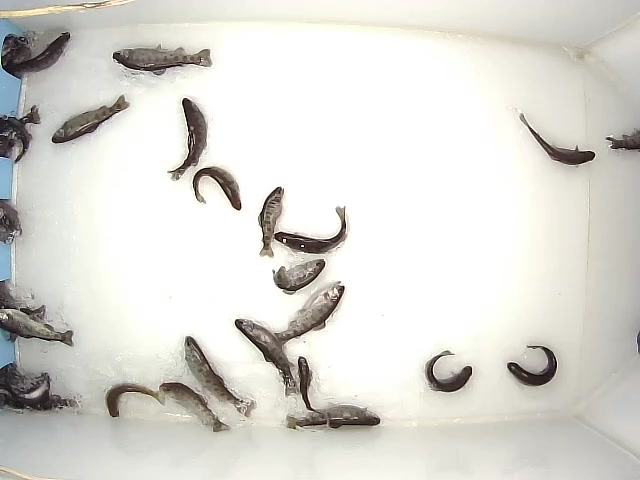fish: (184, 335, 258, 420), (234, 318, 301, 399), (274, 280, 345, 346), (518, 112, 596, 169), (51, 93, 132, 144), (158, 382, 232, 433), (274, 205, 347, 255), (167, 96, 207, 183), (112, 44, 214, 76), (1, 308, 75, 347), (285, 402, 381, 430), (192, 165, 242, 213), (423, 349, 473, 393), (105, 382, 166, 418), (505, 345, 557, 387), (272, 258, 326, 295), (258, 186, 285, 258), (297, 356, 323, 414)
